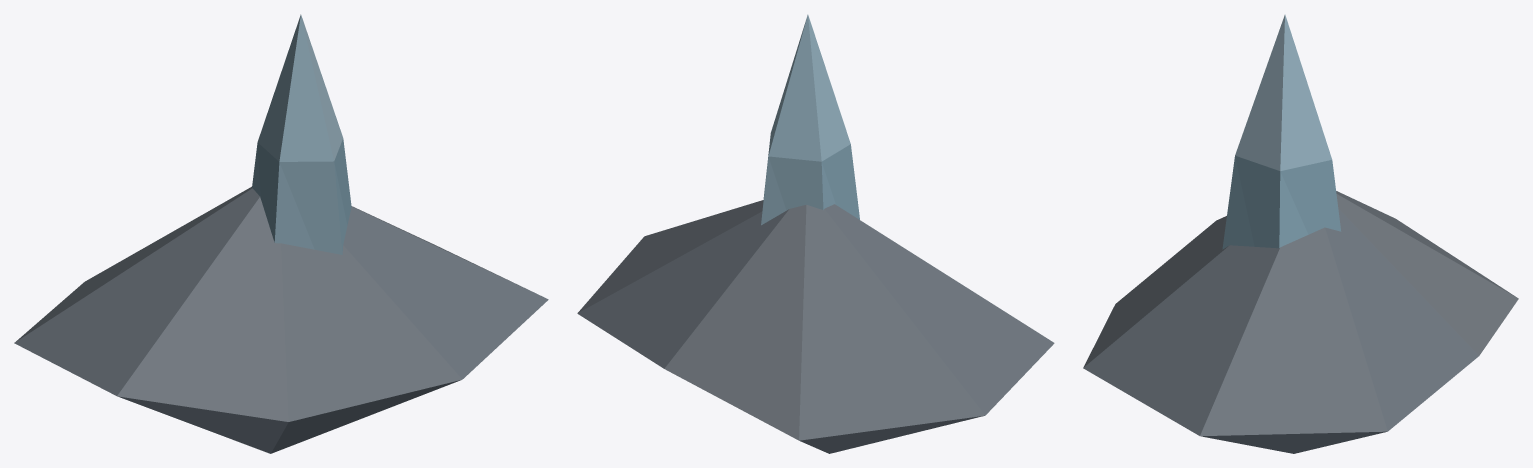
File: Stormstone.glb
3 renders of one model, left to right at view 1: azimuth 30°, elevation 25°; view 2: azimuth 150°, elevation 25°; view 3: azimuth 270°, elevation 25°, orthographic. The views are drawn at different scales.
Parts seen in each view (by area): view 1: Stormstone; view 2: Stormstone; view 3: Stormstone.
Boxes of the visible parts, x1,y1,x2,y2 form: Stormstone: (14, 14, 548, 453); Stormstone: (577, 14, 1054, 453); Stormstone: (1083, 14, 1518, 453).
Size of the model in its own units: 0.6758 by 0.6404 by 0.5583.
